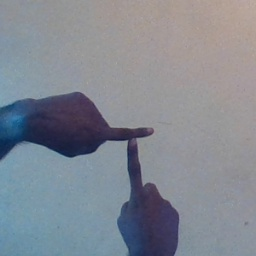T: (82, 97, 177, 214)
